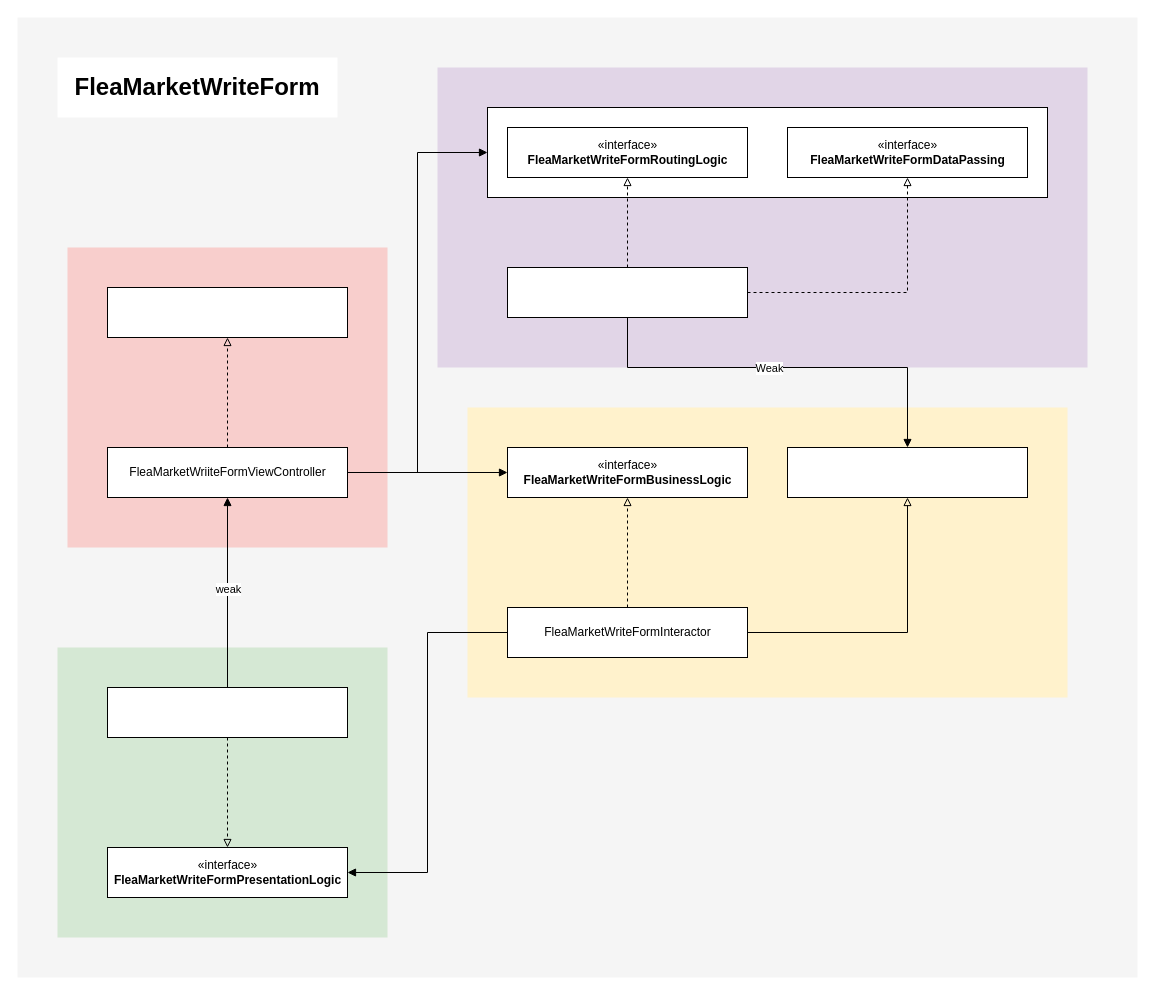
This 1154x994 diagram has some shape labels left out. The centre of each missing label's shape, as x and y in pixels:
"FleaMarketWriteFormPresenter" goes at pixel 227 712.
"FleaMarketWriteFormRouter" goes at pixel 627 292.
"«interface» FleaMarketWriteFormDataStore" goes at pixel 907 472.
"«interface» FleaMarketWriteFormDisplayLogic" goes at pixel 227 312.
